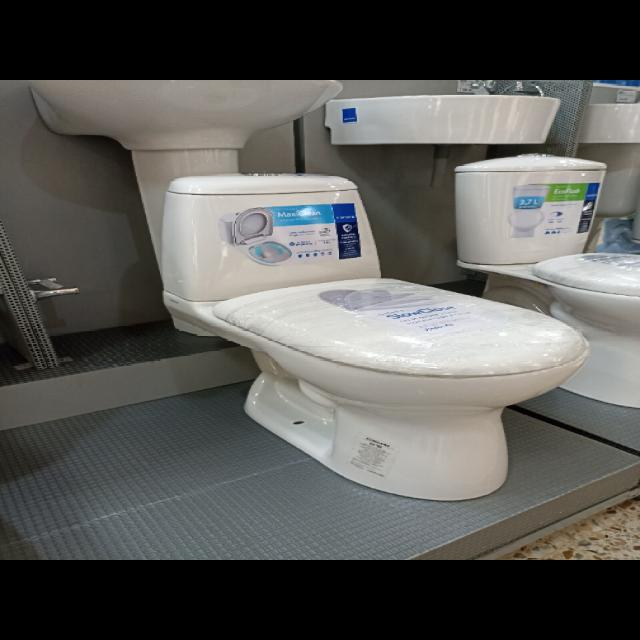toilet: (146, 168, 597, 505)
